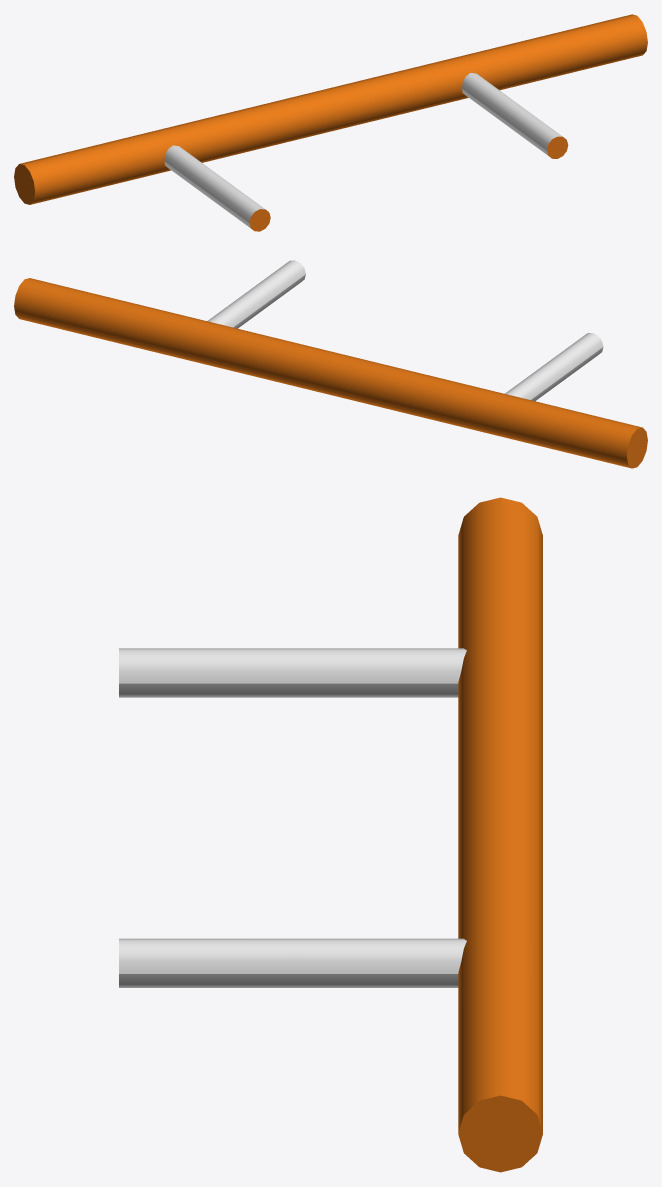
File: Rails_2m_01_mesh.fbx
3 views of the same model, one above another, from view 1: azimuth 30°, elevation 25°; view 2: azimuth 150°, elevation 25°; view 3: azimuth 270°, elevation 25° (orthographic). The views are drawn at different scales.
Visible parts, largest first — view 1: Cylinder.015; view 2: Cylinder.015; view 3: Cylinder.015.
Part boxes in pixels (x1,y1,x2,y2): Cylinder.015: (14,14,647,231); Cylinder.015: (14,260,647,468); Cylinder.015: (119,497,542,1172).
Bounding box in the file's own units: 12 × 200 × 59.95.
